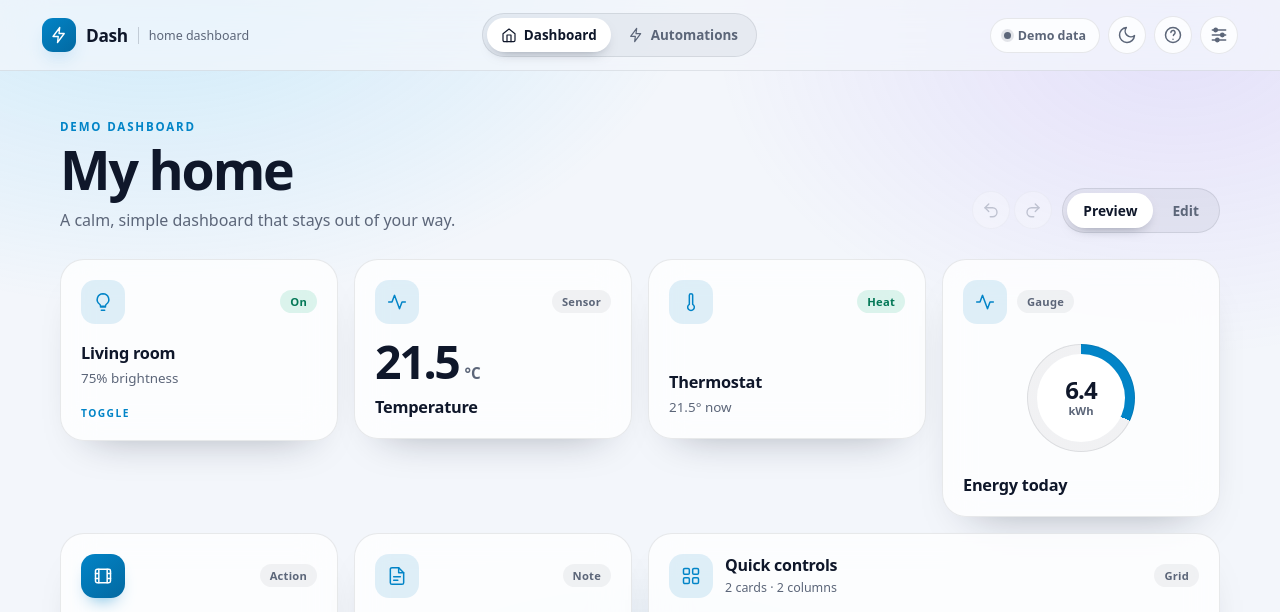
Test: Dash dashboard builder › removes cards and reorders them with accessible arrow buttons
This screenshot has width=1280, height=612.
Click the button "Edit" at x=1186, y=210, box [1156, 192, 1215, 228]
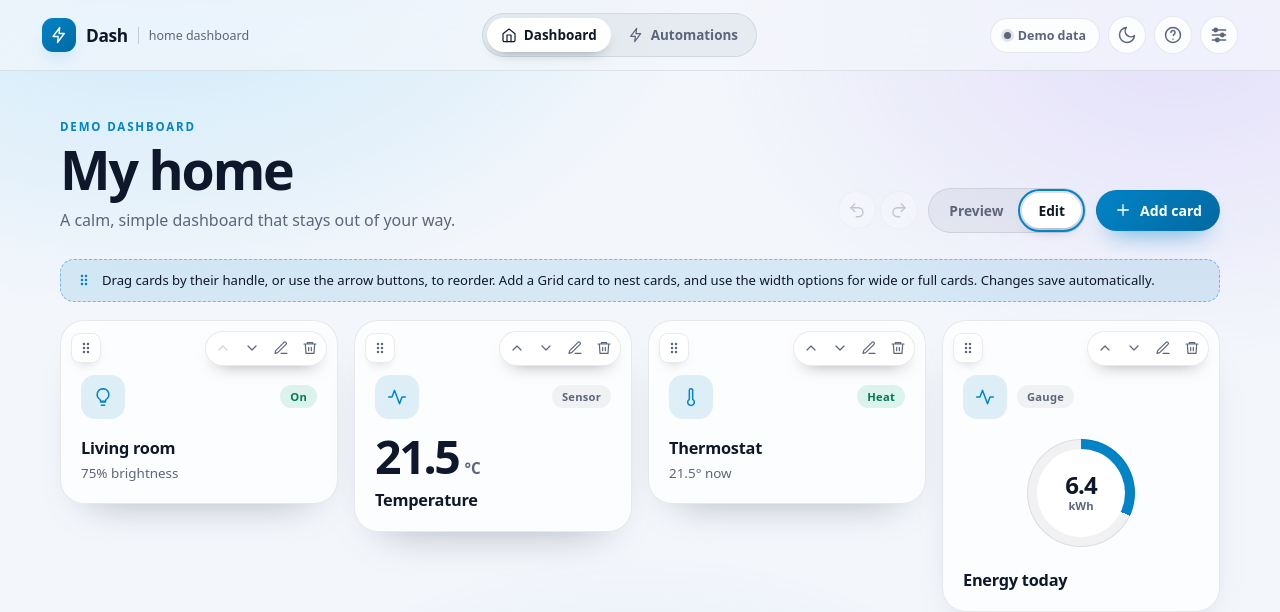
Expected: the heading "Living room" is shown, [81, 437, 175, 459]
Click the button named "Move Temperature up" at x=516, y=348, box [503, 335, 530, 362]
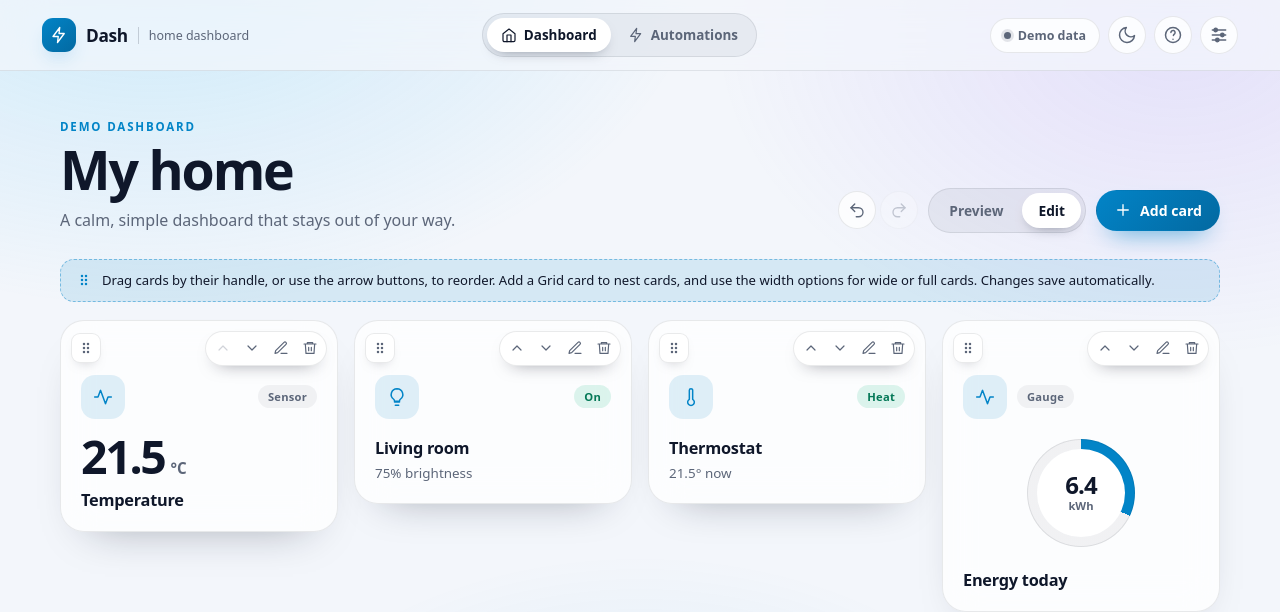
Expected: the heading "Temperature" is shown, [81, 489, 184, 511]
Click the button named "Remove Living room" at x=604, y=348, box [590, 335, 617, 362]
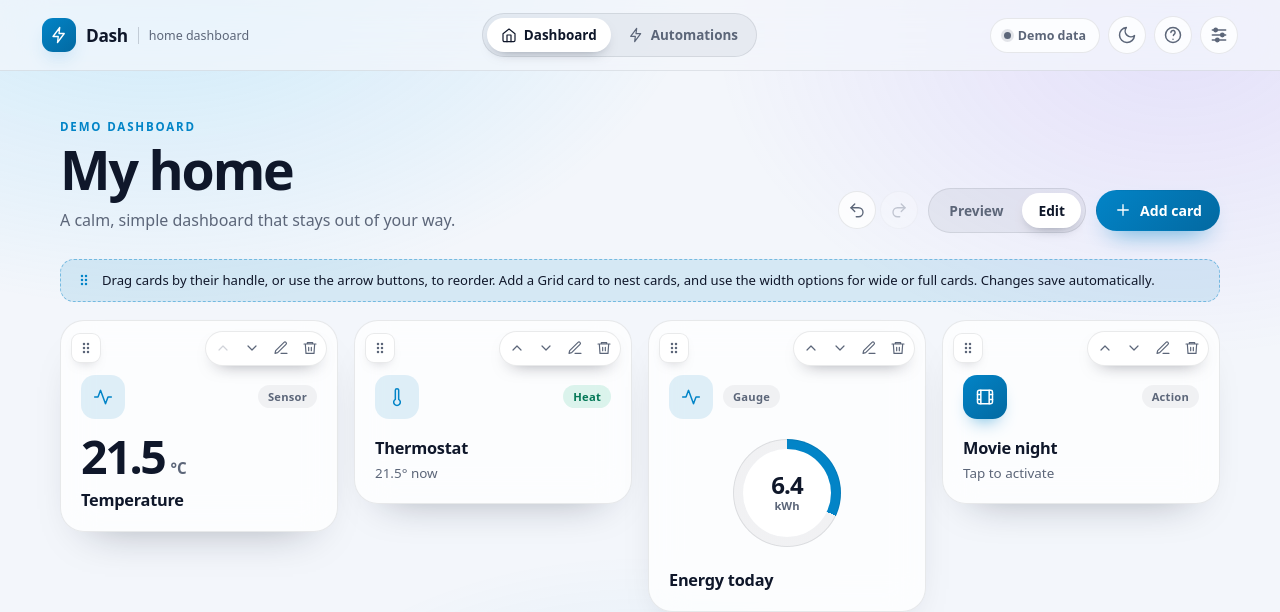
Result: the heading "Living room" is gone
